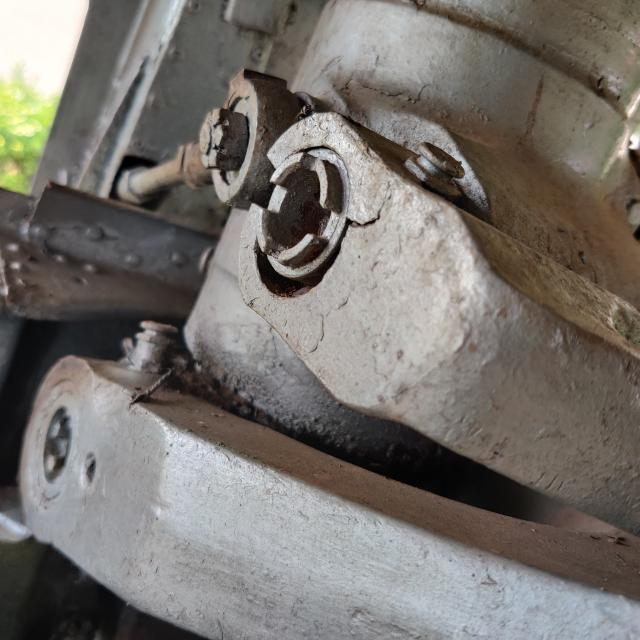crack: (342, 196, 391, 237)
